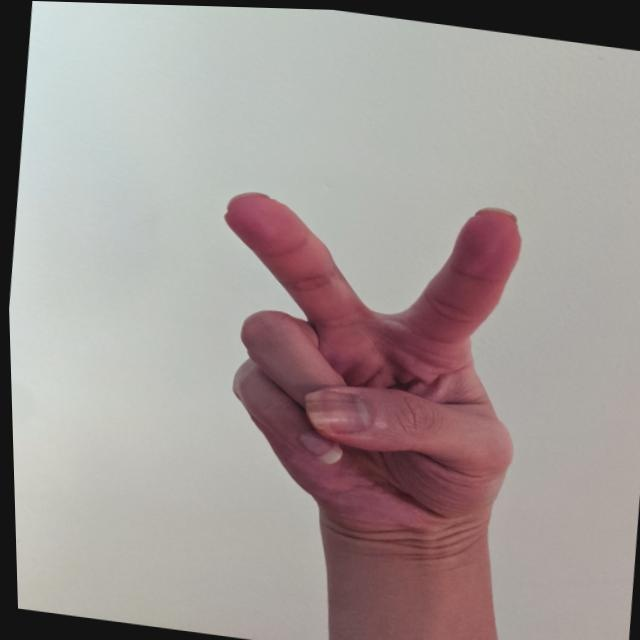V: (179, 160, 550, 545)
